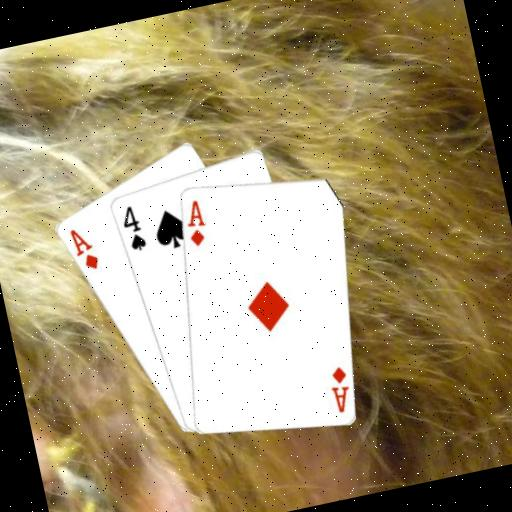4S: (115, 200, 148, 254)
AD: (65, 222, 101, 275), (323, 361, 356, 415), (179, 196, 211, 249)
